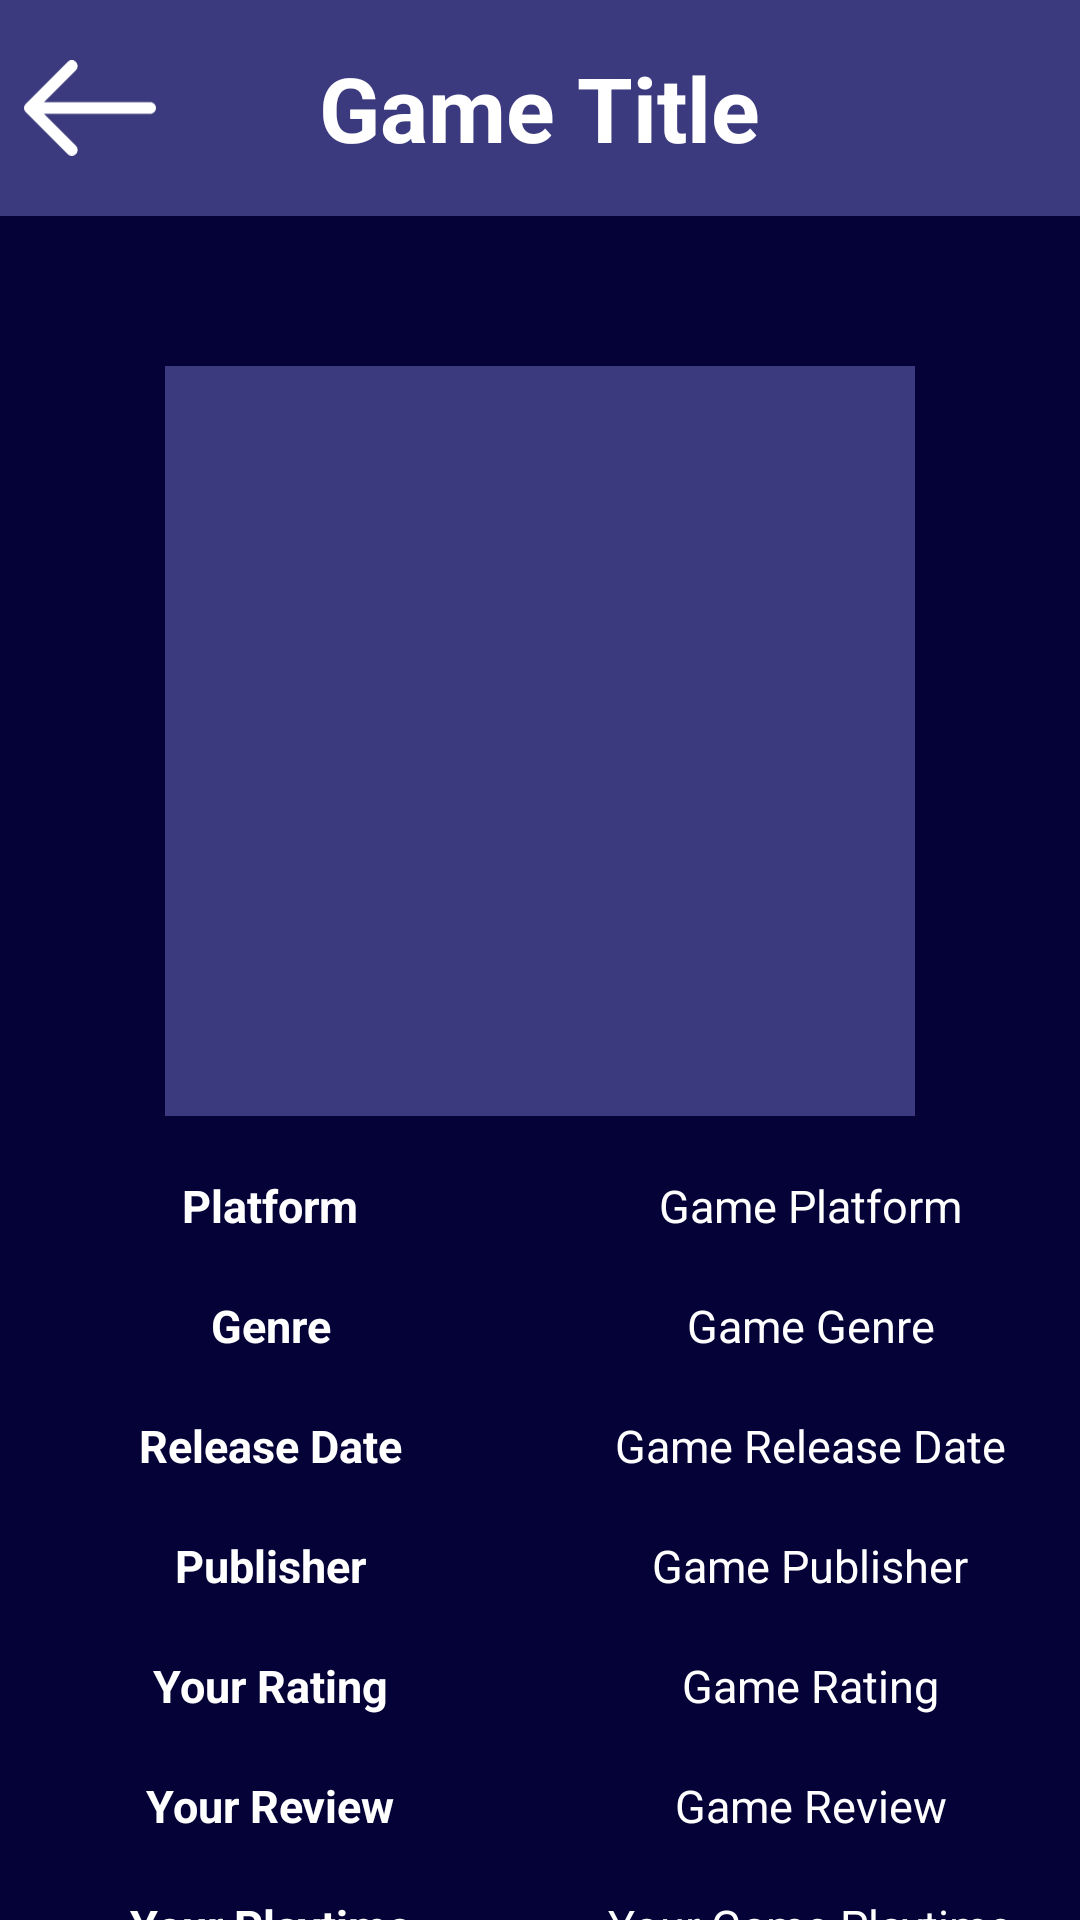

Where icons sit on this 1080px×1920px app screen, as (x1, y1, x2, y2):
back button: (24, 60, 156, 156)
